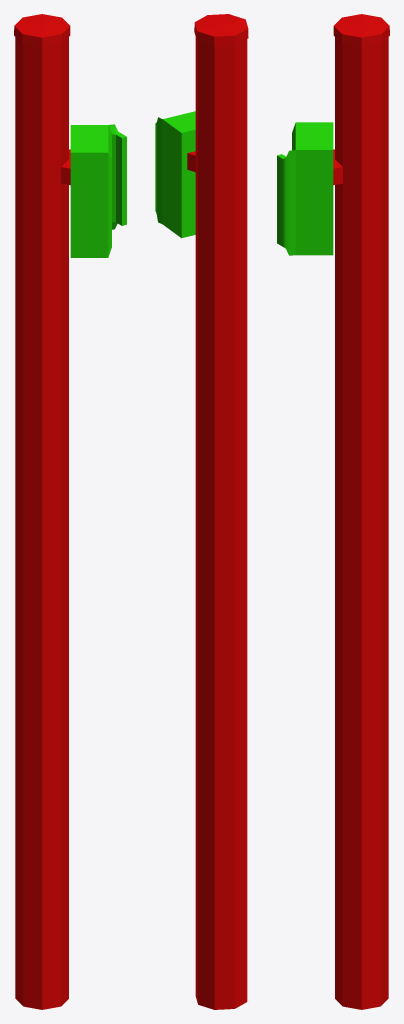
Rendered from ElectricityPole.fbx.
The picture shows the model from 3 angles, left to right: view 1: azimuth 90°, elevation 25°; view 2: azimuth 210°, elevation 25°; view 3: azimuth 270°, elevation 25°; orthographic projection.
Parts seen in each view (by area): view 1: pCube199, pCube200; view 2: pCube199, pCube200; view 3: pCube199, pCube200.
Part boxes in pixels (x1,y1,x2,y2): pCube199: (14, 14, 70, 1009); pCube200: (70, 124, 126, 257); pCube199: (187, 14, 248, 1009); pCube200: (155, 111, 195, 238); pCube199: (333, 14, 389, 1009); pCube200: (277, 122, 333, 255).
Size of the model in its own units: 1.78 by 28.46 by 2.99.
